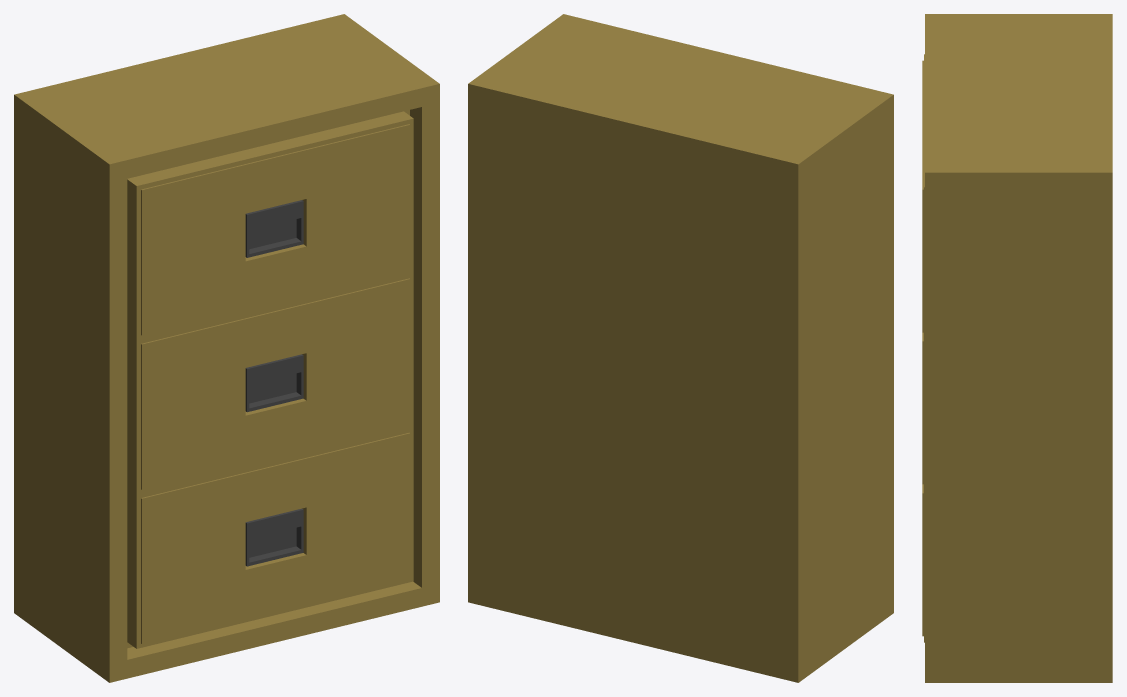
File: cajonBlender.glb
The picture shows the model from 3 angles, left to right: view 1: azimuth 30°, elevation 25°; view 2: azimuth 150°, elevation 25°; view 3: azimuth 270°, elevation 25°; orthographic projection.
Visible parts, largest first — view 1: Cube; view 2: Cube; view 3: Cube.
Part boxes in pixels (<box>): Cube: <box>14,14,439,682</box>; Cube: <box>468,14,893,682</box>; Cube: <box>922,14,1112,682</box>.
Bounding box in the file's own units: 2 × 3 × 1.01.
